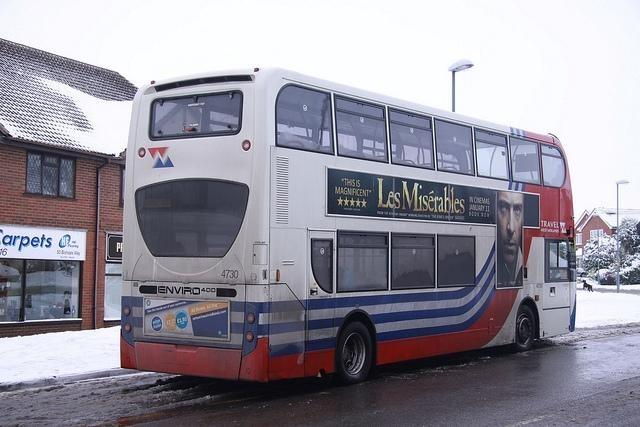bus: (122, 66, 577, 388)
